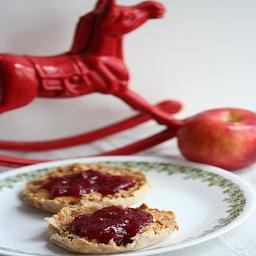apple: (177, 108, 256, 172)
